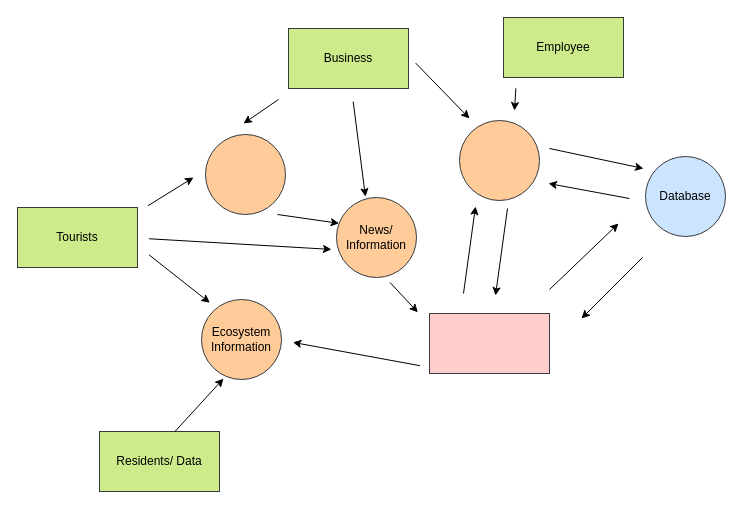
Image size: 743x509. Some labels were removed from this diagram. The centre of each missing label's shape, as x and y in pixels:
"Feedback/ Rating" belongs at [245,174].
"Job Post Process" belongs at [499,160].
"System" belongs at [489,343].
